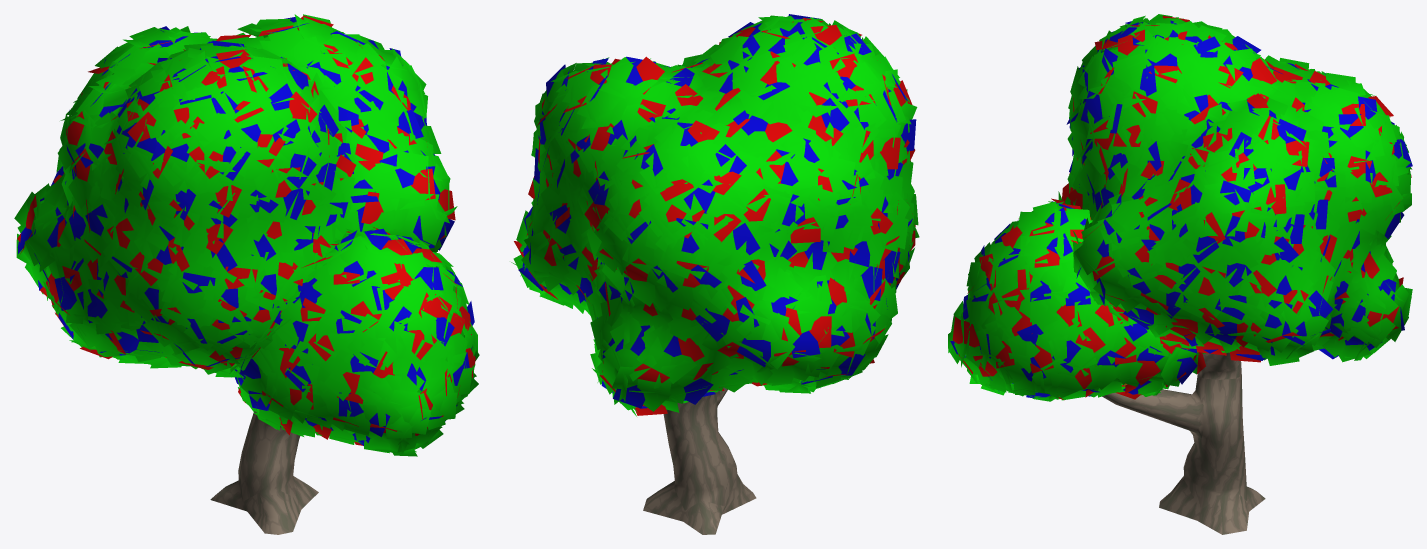
File: obj_tree_big.fbx
3 renders of one model, left to right at view 1: azimuth 30°, elevation 25°; view 2: azimuth 150°, elevation 25°; view 3: azimuth 270°, elevation 25°, orthographic. The views are drawn at different scales.
Parts seen in each view (by area): view 1: Circle.002; view 2: Circle.002; view 3: Circle.002.
Part boxes in pixels (x1,y1,x2,y2): Circle.002: (14, 14, 479, 534); Circle.002: (511, 14, 919, 534); Circle.002: (948, 14, 1412, 534).
Bounding box in the file's own units: 14.63 × 19.34 × 17.97.
2 materials, 1 textured.
